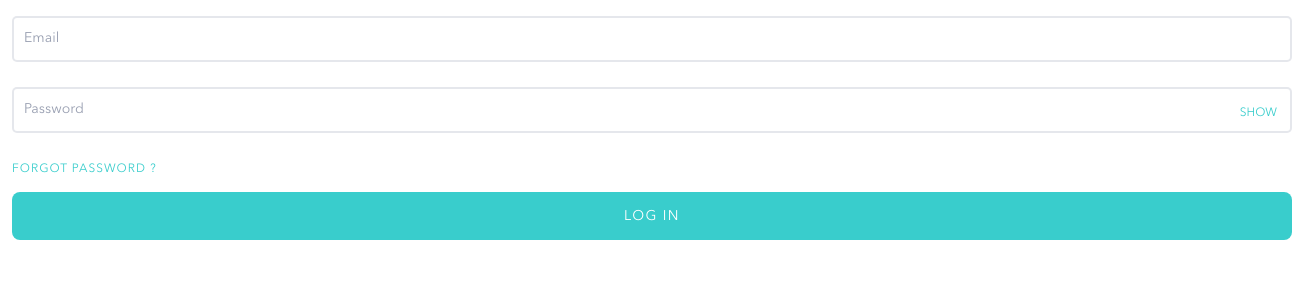
Test case: LoginForm component › shows error messages when required fields are not filled
The width and height of the screenshot is (1304, 295).
Click the button "LOG IN" at coordinates (652, 216), box [12,192,1292,240]
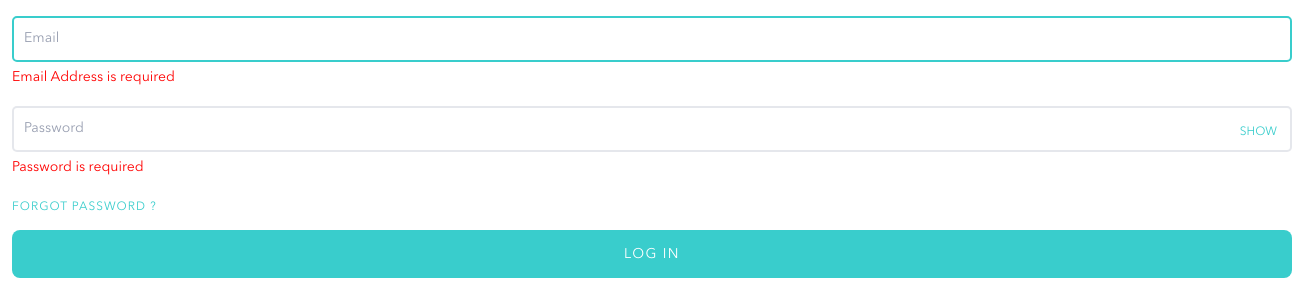
Now the text "Email Address is required" is shown, box [12,70,175,84]
Now the text "Password is required" is shown, box [12,160,144,174]
